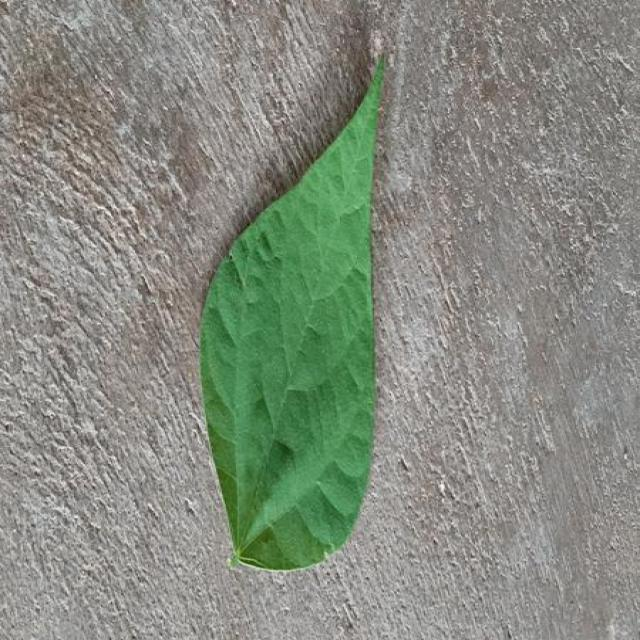beans: (203, 59, 383, 570)
